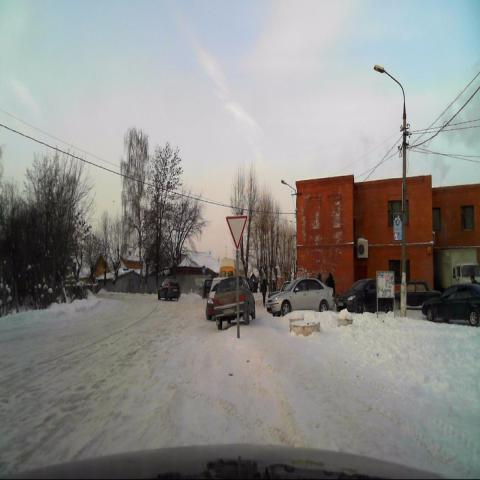2_4: (225, 214, 247, 249)
